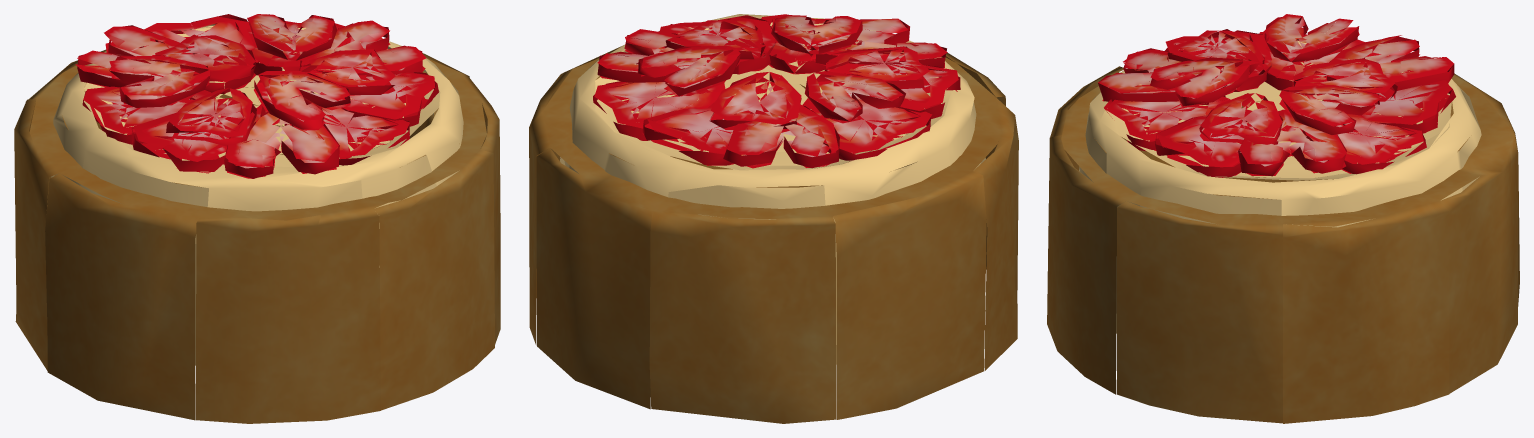
Rendered from Tart.006_LOD1.fbx.
3 renders of one model, left to right at view 1: azimuth 30°, elevation 25°; view 2: azimuth 150°, elevation 25°; view 3: azimuth 270°, elevation 25°, orthographic. The views are drawn at different scales.
Parts seen in each view (by area): view 1: Tart_006_Tart_006_0; view 2: Tart_006_Tart_006_0; view 3: Tart_006_Tart_006_0.
Part boxes in pixels (left/top/right/bottom): Tart_006_Tart_006_0: left=14, top=14, right=500, bottom=423; Tart_006_Tart_006_0: left=529, top=14, right=1018, bottom=423; Tart_006_Tart_006_0: left=1047, top=14, right=1519, bottom=423.
Bounding box in the file's own units: 54.02 × 32.18 × 53.99.
Materials: 4 (4 with a texture image).
